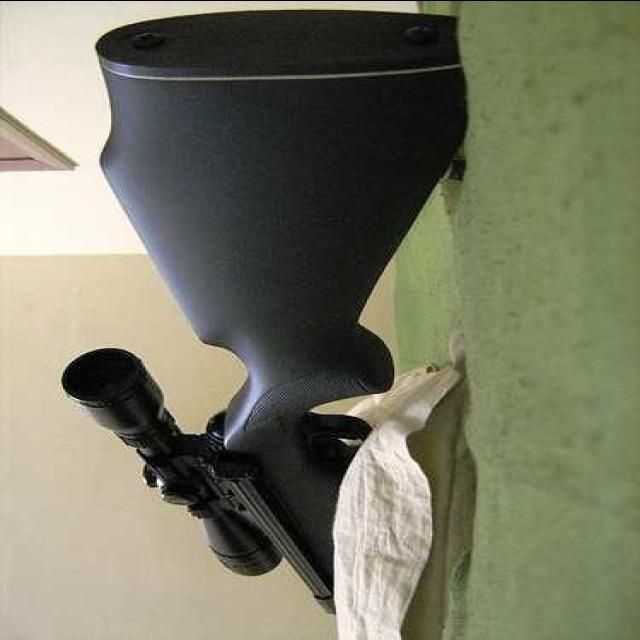heavyweapon: (37, 17, 472, 621)
